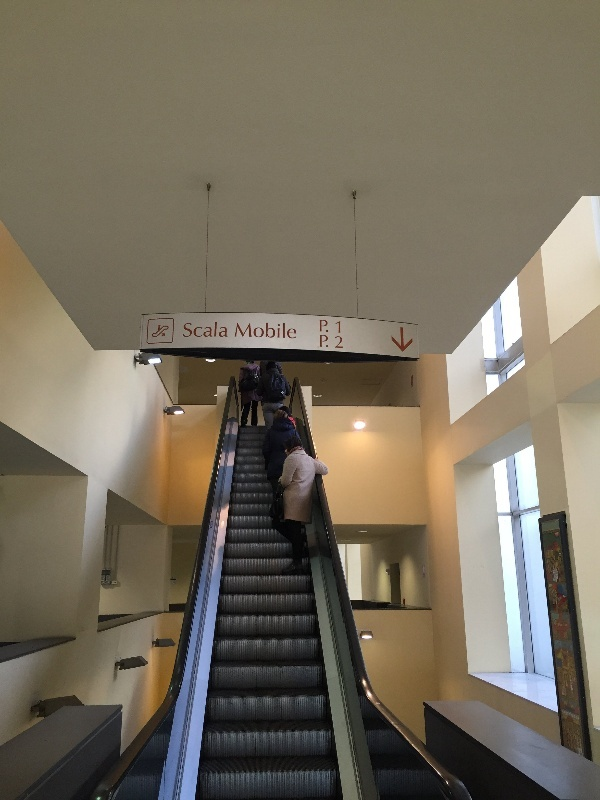text: (241, 322, 256, 341), (257, 322, 272, 341), (273, 322, 288, 341), (193, 322, 208, 339), (209, 322, 224, 339), (289, 322, 298, 341), (185, 322, 192, 339), (321, 319, 328, 333), (321, 335, 328, 347), (337, 336, 343, 349), (237, 322, 240, 341), (337, 321, 341, 334), (225, 322, 228, 339)
